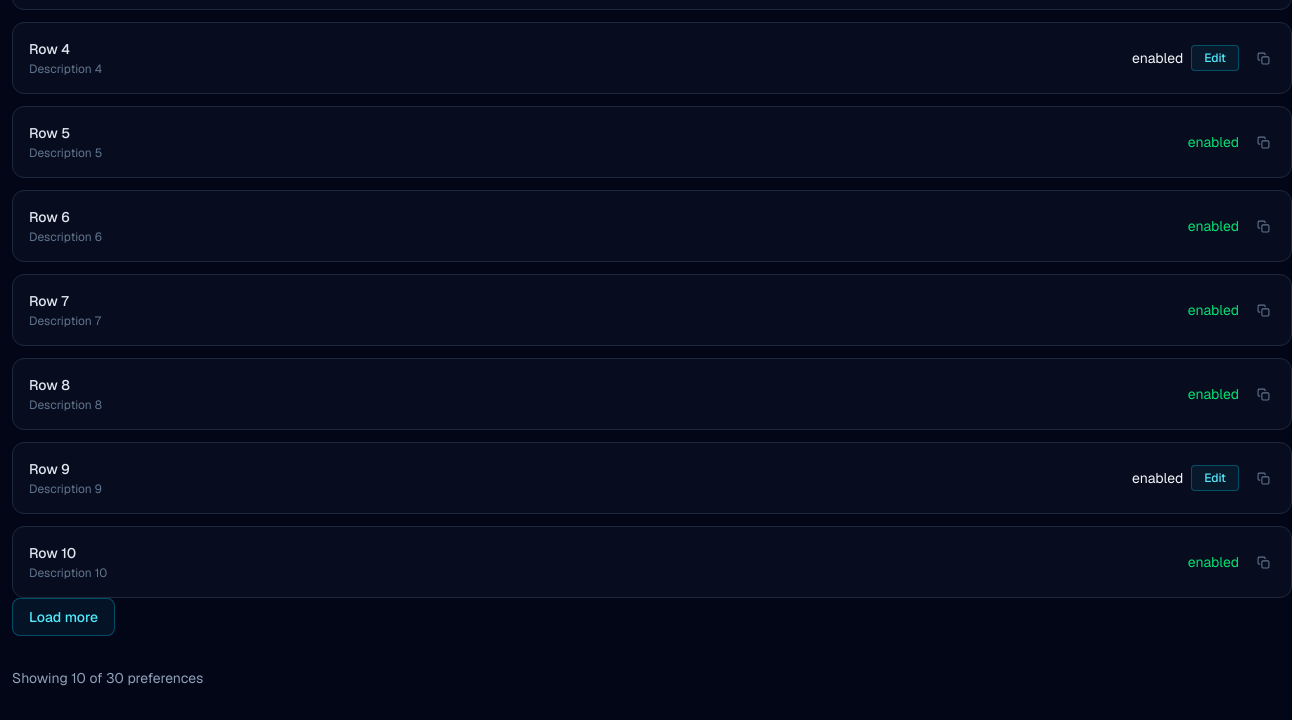
Scenario: SettingsPage – reset-on-filter behavior › changing the category filter snaps visibleCount back to PAGE_SIZE
(page scrolled)
Click the button with test id "settings-load-more" at (64, 617), box [12,598,115,636]
(page scrolled)
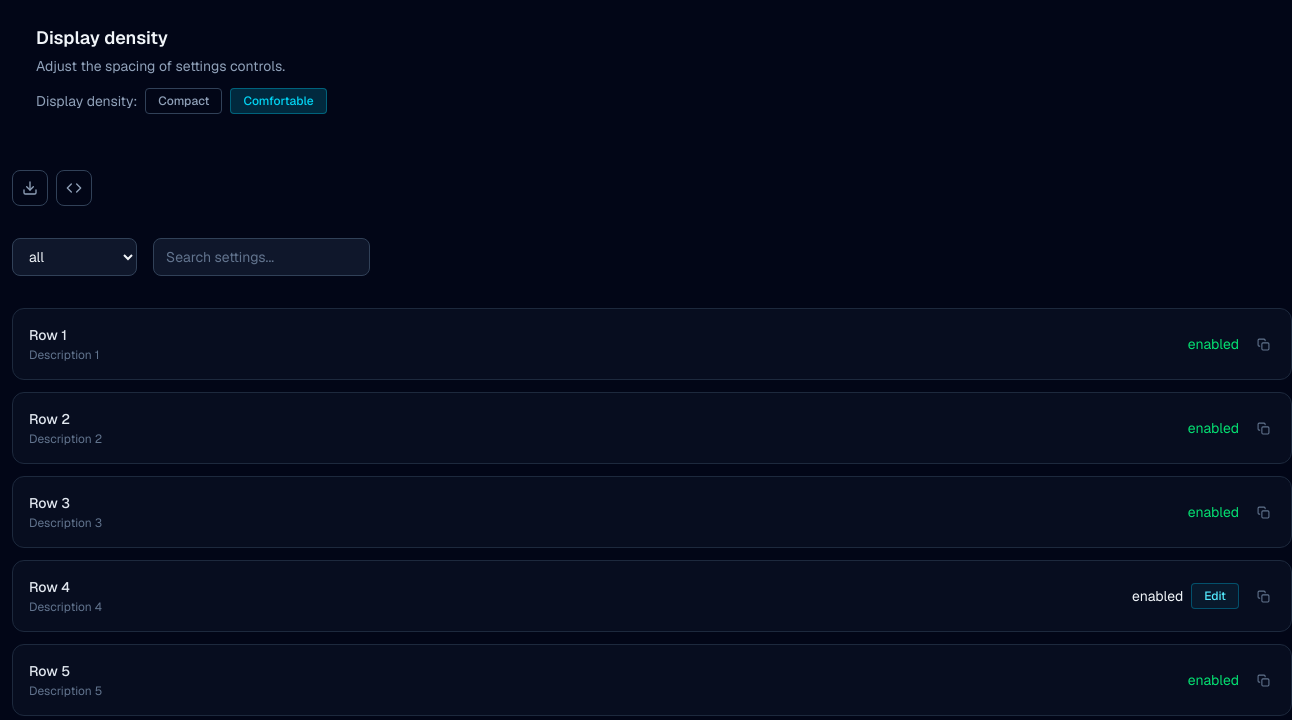
expect the number of list items is 20: met
# Apply a category filter — paging must reset to PAGE_SIZE.
Select "notifications" in the dropdown with test id "settings-category-filter" at (74, 257), box [12,238,137,276]
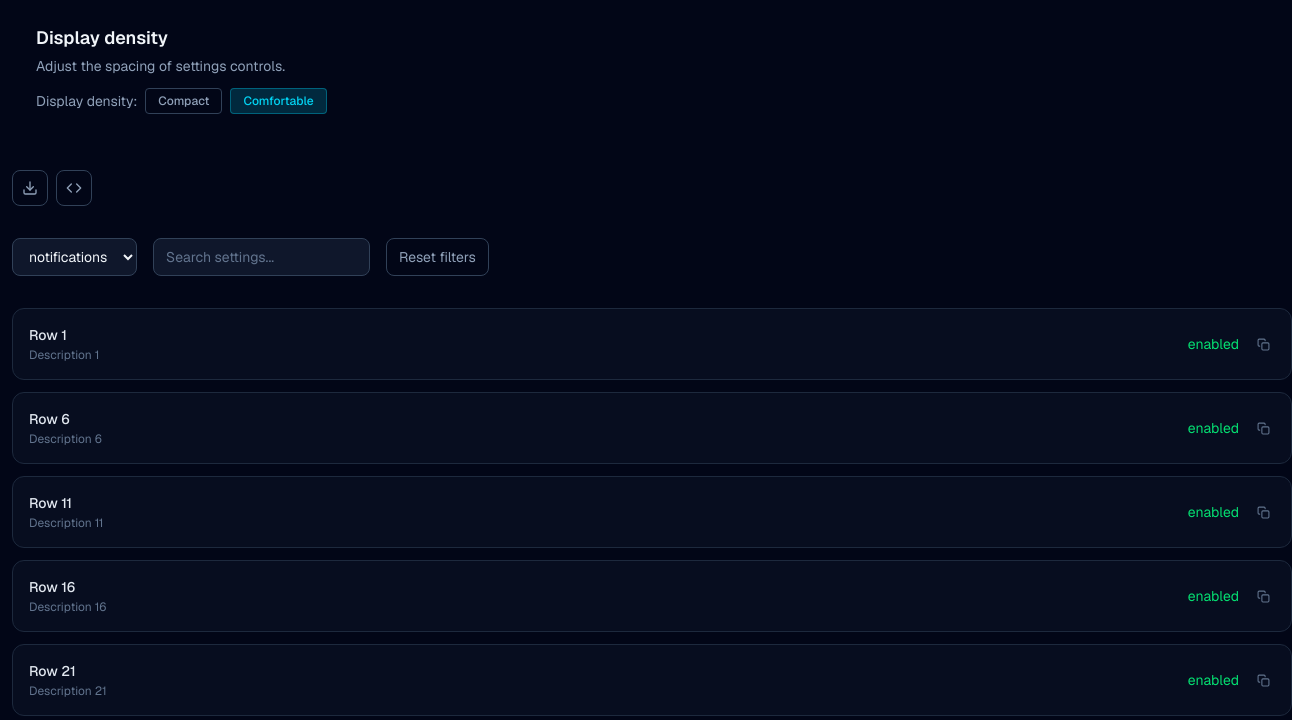
expect the number of list items is 6: met
